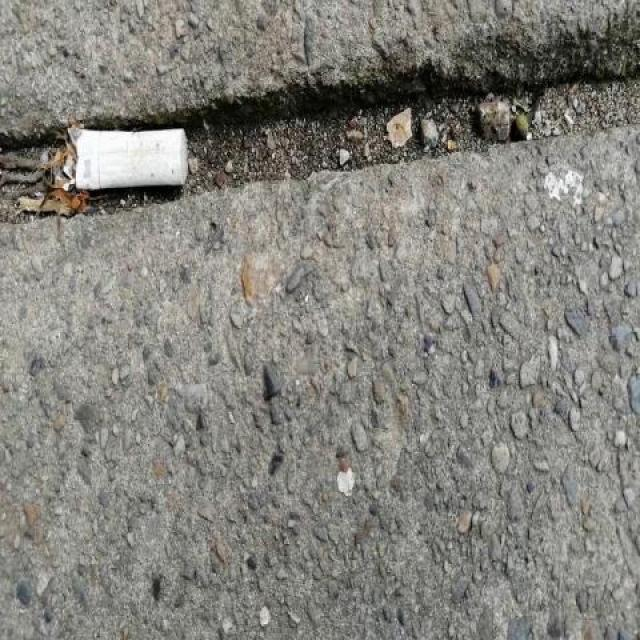non-organic waste: (59, 121, 193, 194)
